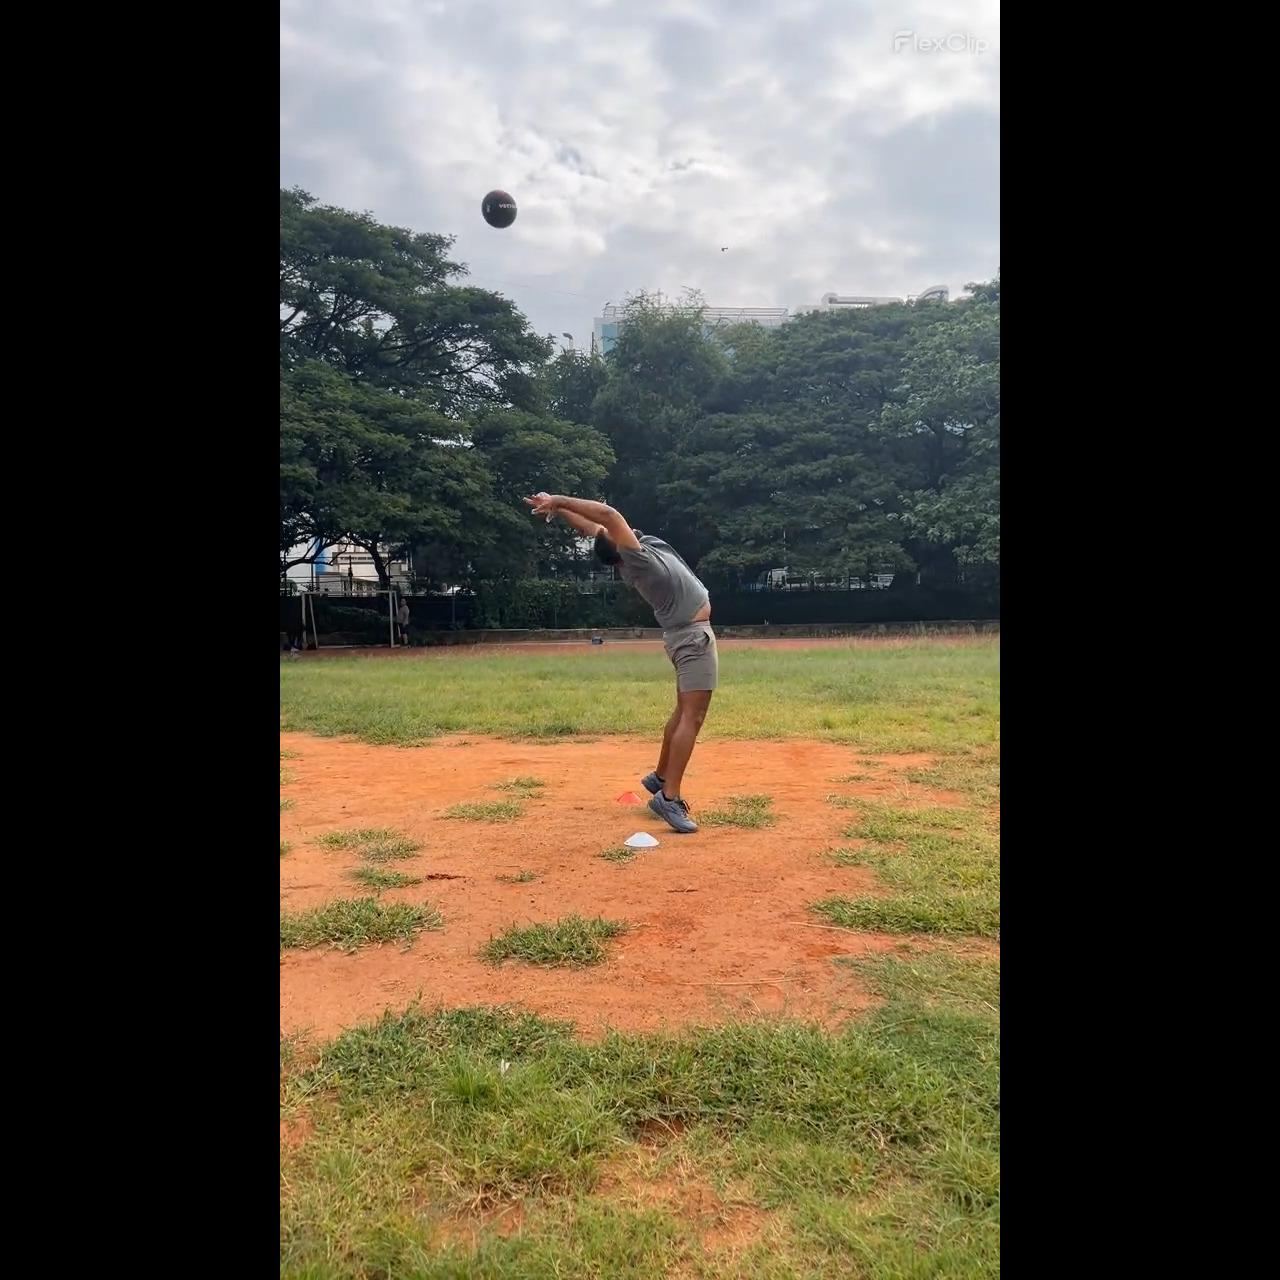Athelete: (518, 490, 720, 832)
Medicine Ball: (481, 191, 517, 227)
